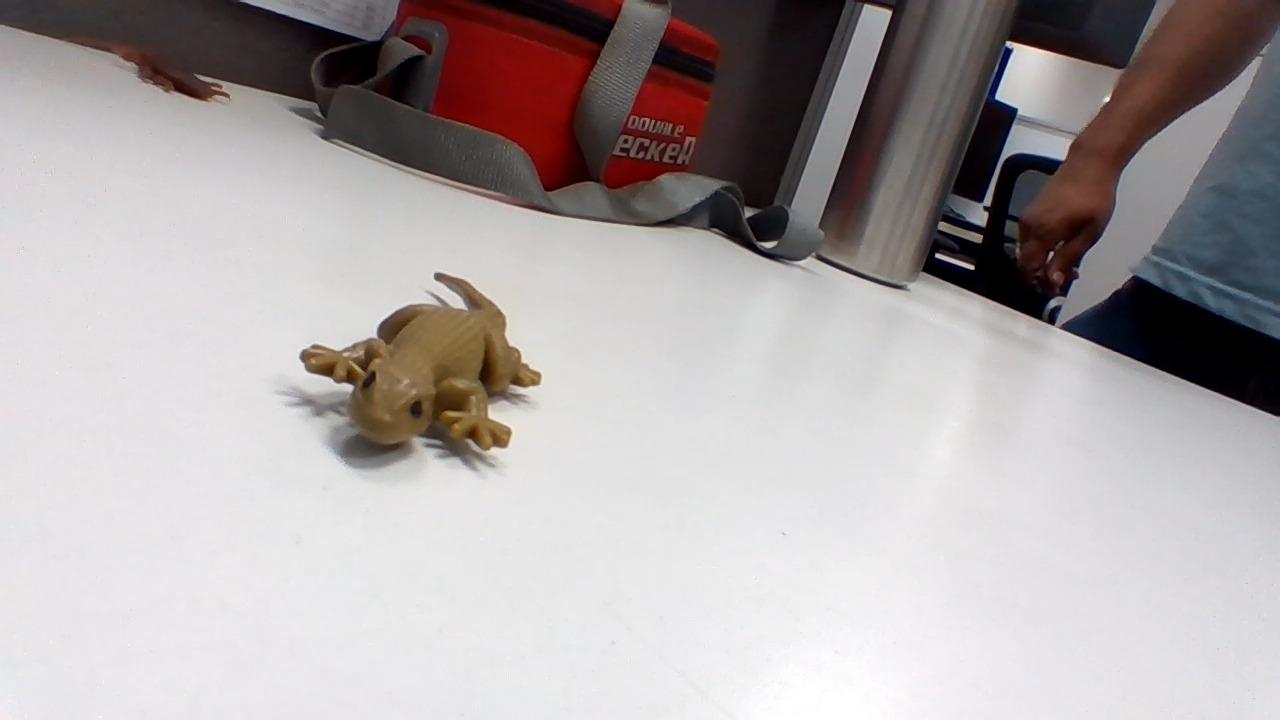lizard: (281, 270, 548, 457)
